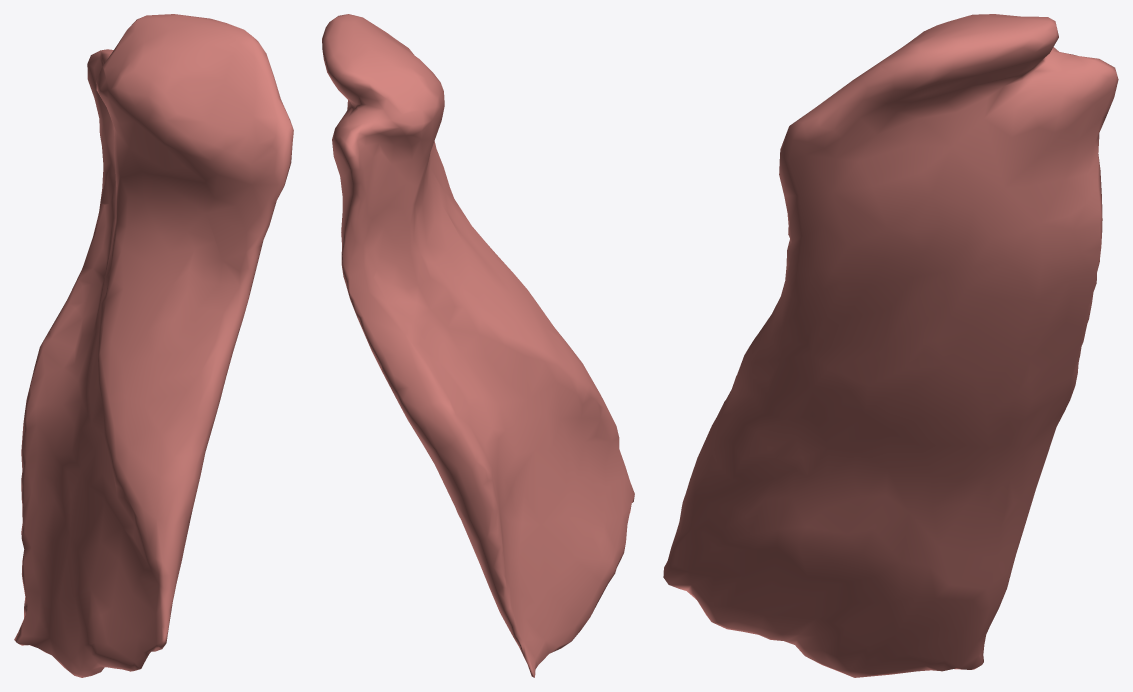
File: fma49005_mm1118.glb
3 views of the same model, side by side, from view 1: azimuth 30°, elevation 25°; view 2: azimuth 150°, elevation 25°; view 3: azimuth 270°, elevation 25° (orthographic). The views are drawn at different scales.
Parts seen in each view (by area): view 1: FMA49005_MM1118; view 2: FMA49005_MM1118; view 3: FMA49005_MM1118.
Boxes of the visible parts, x1,y1,x2,y2 form: FMA49005_MM1118: (14, 14, 293, 677); FMA49005_MM1118: (322, 14, 634, 677); FMA49005_MM1118: (663, 14, 1118, 677).
Size of the model in its own units: 0.018 by 0.0451 by 0.0246.
